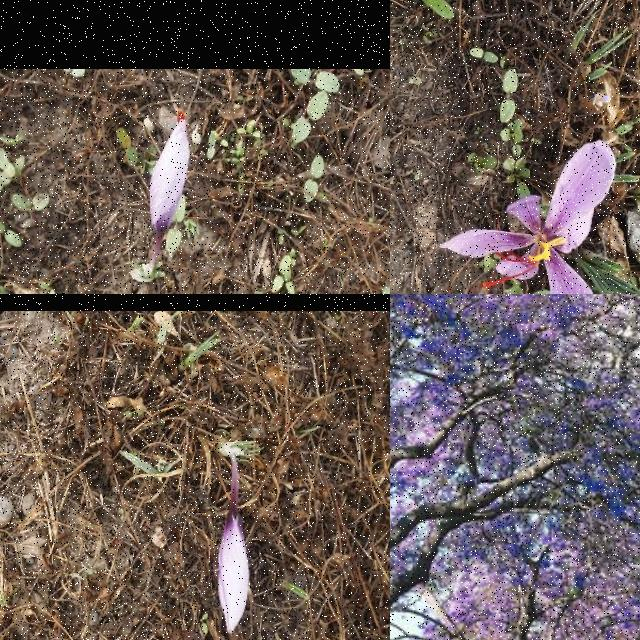flower: (440, 142, 616, 294), (150, 108, 190, 236), (218, 500, 250, 634)
